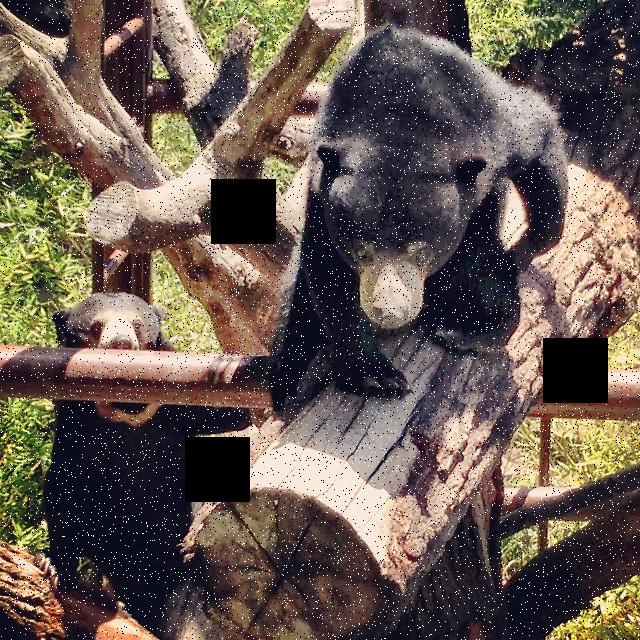Bear: (278, 17, 566, 380)
